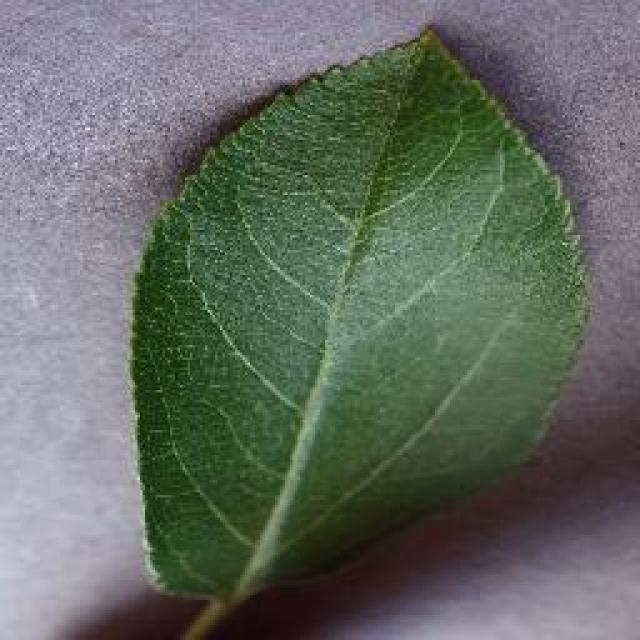Apple___healthy: (127, 23, 593, 607)
